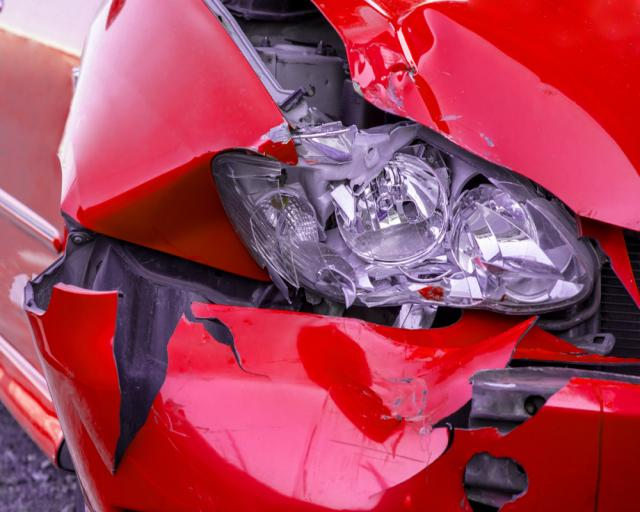crack: (109, 293, 271, 480), (426, 377, 572, 468), (594, 402, 605, 512)
dent: (165, 304, 531, 510), (77, 151, 262, 277), (340, 7, 449, 136)
lamp broken: (211, 106, 596, 311)
